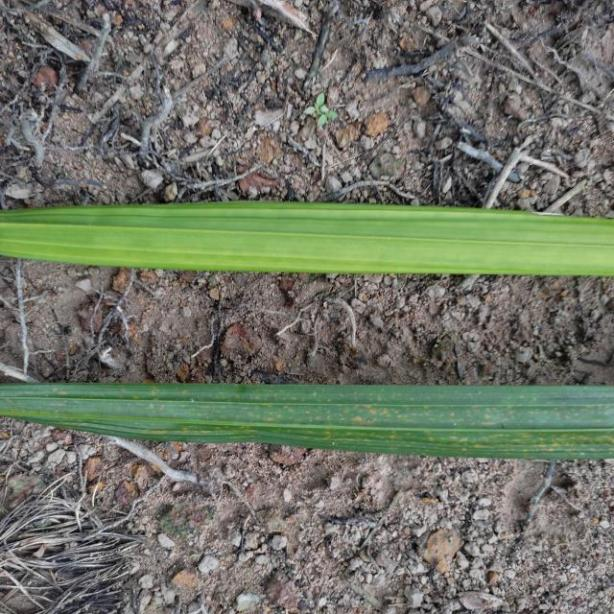nitrogen: (0, 368, 614, 460), (1, 194, 614, 281)
